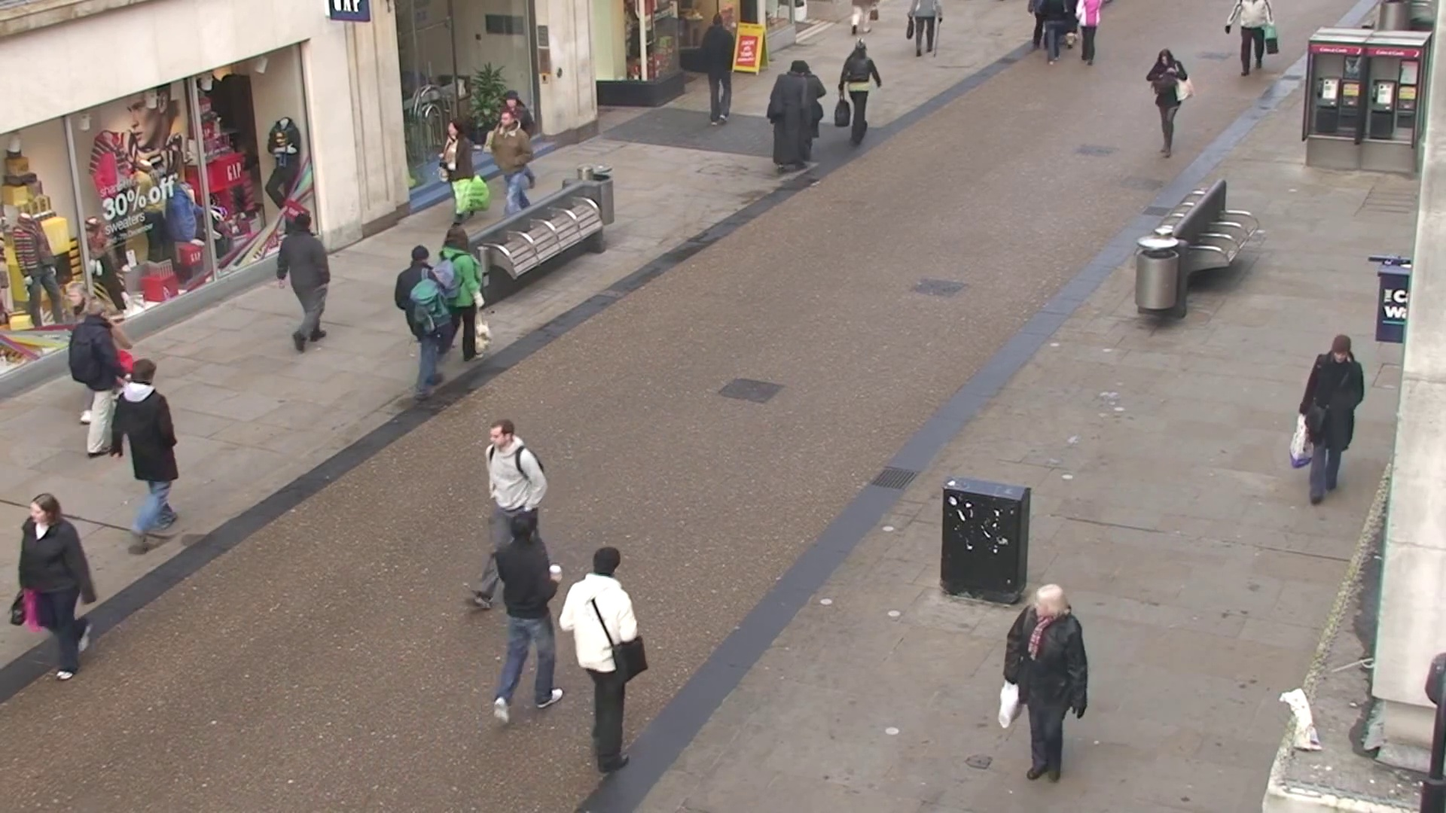person: (558, 546, 646, 775), (471, 513, 565, 723), (1004, 582, 1091, 784), (15, 492, 99, 683), (1295, 333, 1368, 505), (115, 358, 181, 538), (69, 301, 136, 458), (393, 242, 455, 396), (485, 419, 548, 551), (275, 208, 332, 349), (765, 59, 827, 169), (429, 105, 479, 235), (487, 97, 537, 218), (438, 242, 487, 361), (836, 30, 883, 150), (887, 0, 956, 81), (1146, 47, 1190, 157), (699, 4, 737, 126), (1229, 0, 1276, 75), (1075, 0, 1104, 65)
